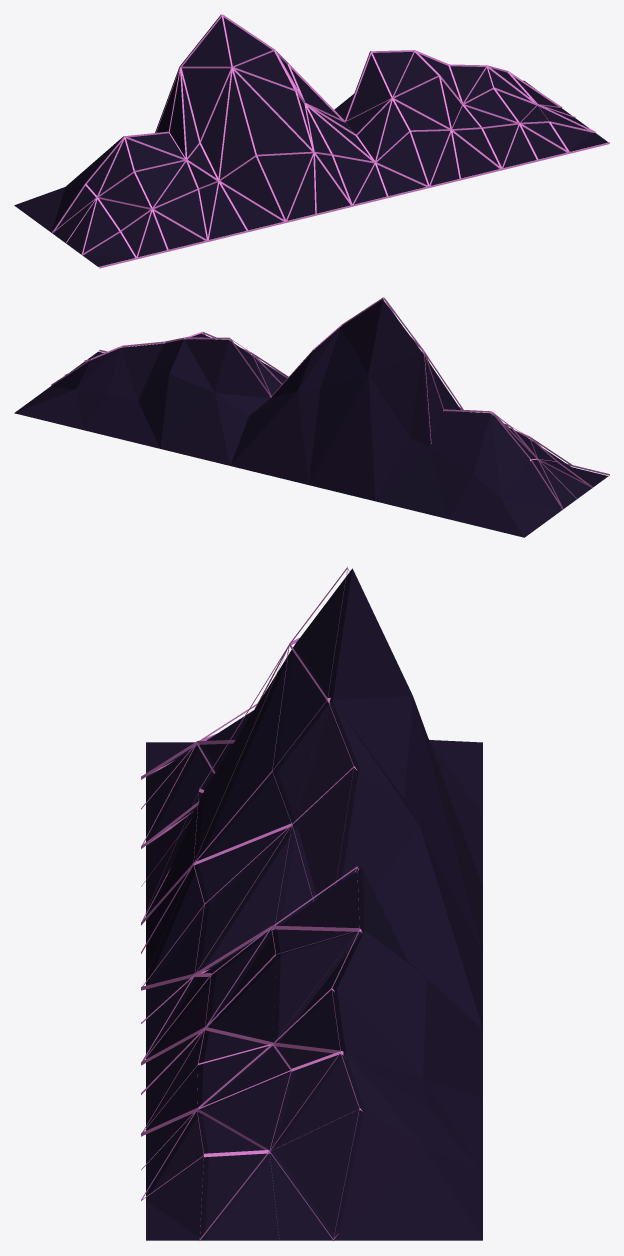
Rendered from mountain_a.glb.
3 renders of one model, top to bottom at view 1: azimuth 30°, elevation 25°; view 2: azimuth 150°, elevation 25°; view 3: azimuth 270°, elevation 25°, orthographic. The views are drawn at different scales.
Parts seen in each view (by area): view 1: root; view 2: root; view 3: root.
Part boxes in pixels (bbox=[...]): root: bbox=[14, 14, 609, 268]; root: bbox=[14, 297, 609, 537]; root: bbox=[141, 566, 482, 1240].
Bounding box in the file's own units: 702 × 228 × 203.
